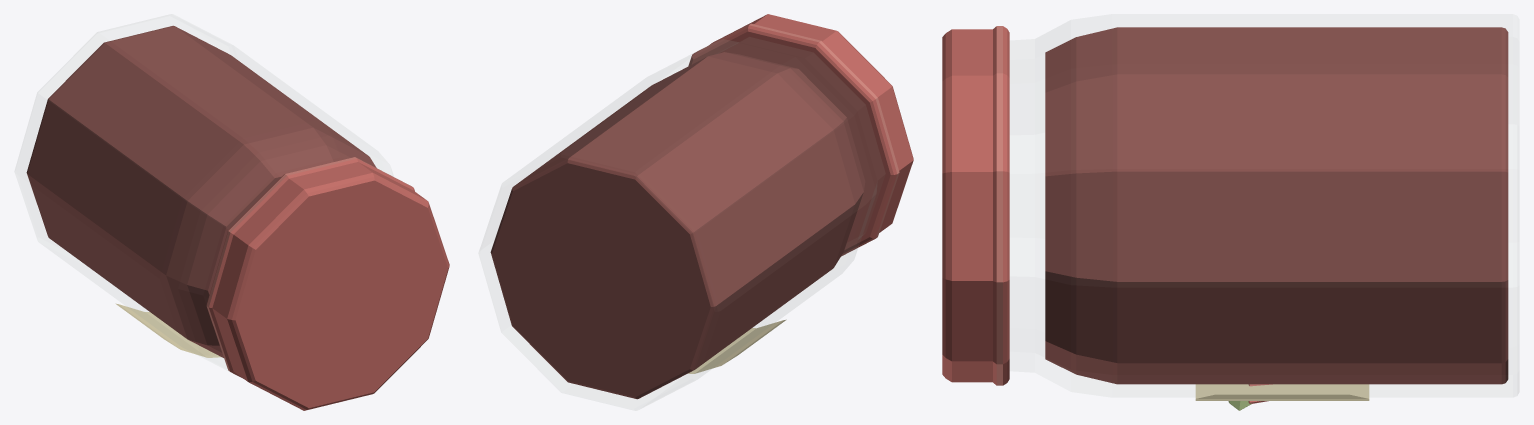
File: jam_jar.glb
3 renders of one model, left to right at view 1: azimuth 30°, elevation 25°; view 2: azimuth 150°, elevation 25°; view 3: azimuth 270°, elevation 25°, orthographic. The views are drawn at different scales.
Visible parts, largest first — view 1: jam_jar; view 2: jam_jar; view 3: jam_jar.
Part boxes in pixels (x1,y1,x2,y2): jam_jar: (15,14,449,410); jam_jar: (479,14,913,410); jam_jar: (942,14,1518,410).
Size of the model in its own units: 0.069 by 0.0702 by 0.103.
